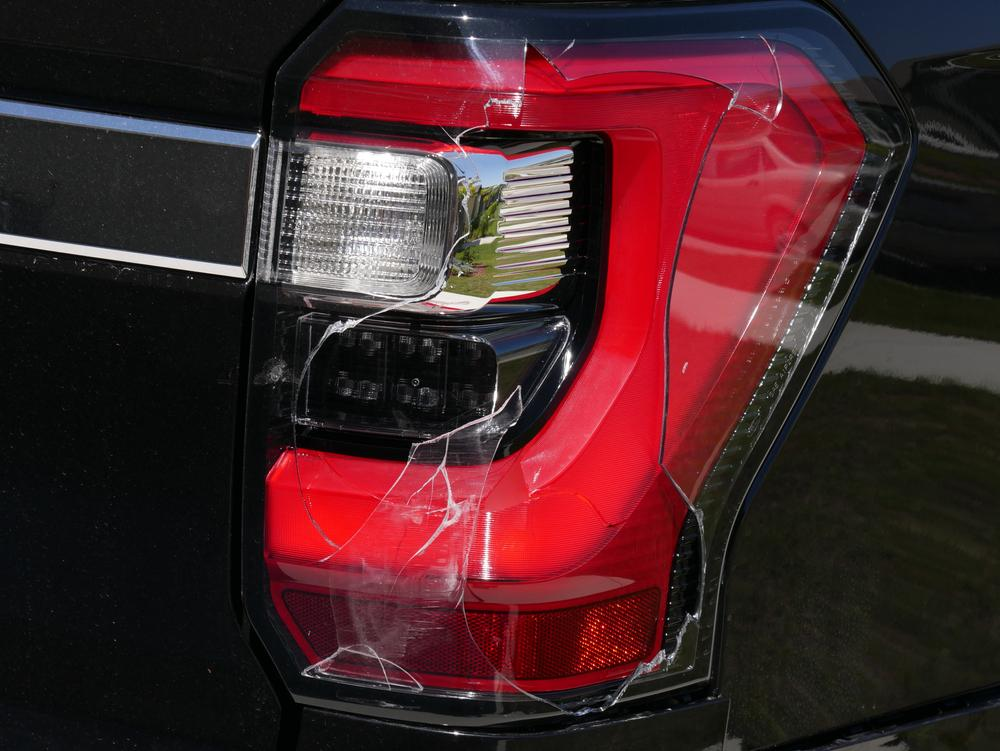lamp broken: (236, 0, 917, 737)
